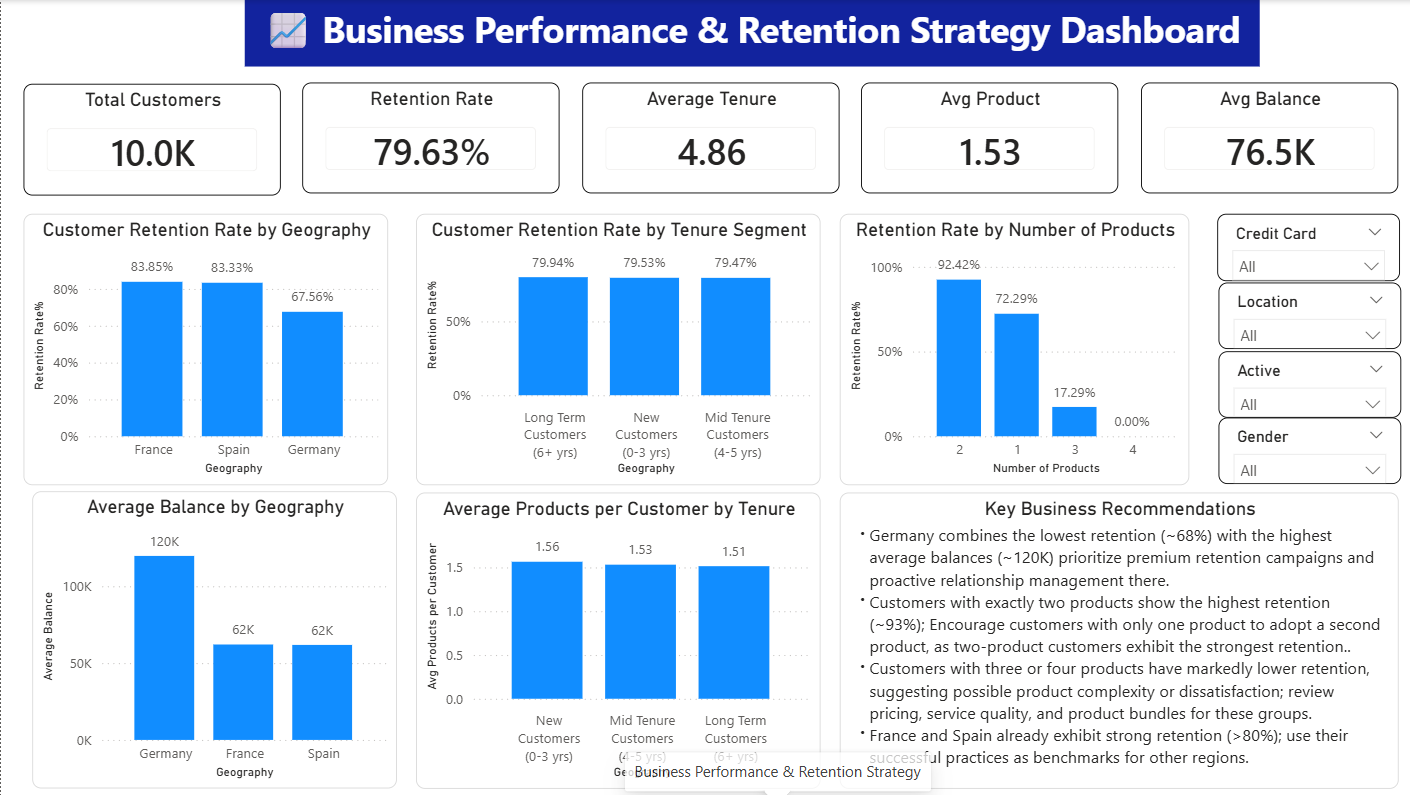

Layout of this report page (visuals, bound fields, positions):
{"tool":"powerbi","page":{"name":"Business Performance & Retention Strategy","canvas":[1280,720],"ordinal":3},"visuals":[{"type":"textbox","box":[219.8,0,915.2,59.6],"z":0},{"type":"cardVisual","title":"Total Customers","fields":{"Data":["CountNonNull(Bank_Churn.CustomerId)"]},"box":[20,75,232,100.6],"z":1000},{"type":"cardVisual","title":"Retention Rate","fields":{"Data":["Bank_Churn.Retenation Rate%"]},"box":[272,74.6,232,100.3],"z":2000},{"type":"cardVisual","title":"Average Tenure","fields":{"Data":["Avg(Bank_Churn.Tenure)"]},"box":[524,74.6,232,100.3],"z":3000},{"type":"cardVisual","title":"Avg Product","fields":{"Data":["Avg(Bank_Churn.NumOfProducts)"]},"box":[776,74.6,232,100.3],"z":4000},{"type":"cardVisual","title":"Avg Balance","fields":{"Data":["Bank_Churn.Average Bank Balance"]},"box":[1028,74.6,232,100.3],"z":5000},{"type":"clusteredColumnChart","title":"Customer Retention Rate by Geography","fields":{"Category":["Geography.GeographyLocation"],"Y":["Bank_Churn.Retenation Rate%"]},"box":[19.9,192.5,329.1,244.6],"z":6000},{"type":"clusteredColumnChart","title":"Customer Retention Rate by Tenure Segment","fields":{"Category":["Bank_Churn.Customer Tenure Segment"],"Y":["Bank_Churn.Retenation Rate%"]},"box":[373.8,192.5,365.1,244.6],"z":7000},{"type":"clusteredColumnChart","title":"Retention Rate by Number of Products","fields":{"Category":["Bank_Churn.NumOfProducts"],"Y":["Bank_Churn.Retenation Rate%"]},"box":[756.2,192.5,315.4,244.6],"z":8000},{"type":"clusteredColumnChart","title":"Average Balance by Geography","fields":{"Category":["Geography.GeographyLocation"],"Y":["Bank_Churn.Average Bank Balance"]},"box":[28.6,443.3,329.1,268.2],"z":9000},{"type":"clusteredColumnChart","title":"Average Products per Customer by Tenure","fields":{"Category":["Bank_Churn.Customer Tenure Segment"],"Y":["Avg(Bank_Churn.NumOfProducts)"]},"box":[373.8,444.5,365.1,267],"z":10000},{"type":"slicer","fields":{"Values":["Geography.GeographyLocation"]},"box":[1097.7,255,165.2,59.6],"z":11000},{"type":"slicer","fields":{"Values":["Gender.GenderCategory"]},"box":[1097.7,377,165.2,59.6],"z":12000},{"type":"slicer","fields":{"Values":["ActiveCustomer.ActiveCategory"]},"box":[1097.7,317,165.2,59.6],"z":13000},{"type":"slicer","fields":{"Values":["CreditCard.Category"]},"box":[1096.5,192.5,165.2,60.8],"z":14000},{"type":"textbox","title":"Key Business Recommendations","box":[756.2,444.5,504.2,267],"z":15000}]}

Visuals, with their boxes in screenshot pixels (x1, y1, x2, y2), scaled from the page's 1280x720 canvas onto the 1410x795 screenshot:
textbox: (left=242, top=0, right=1250, bottom=66)
"Total Customers" cardVisual: (left=22, top=83, right=278, bottom=194)
"Retention Rate" cardVisual: (left=300, top=82, right=555, bottom=193)
"Average Tenure" cardVisual: (left=577, top=82, right=833, bottom=193)
"Avg Product" cardVisual: (left=855, top=82, right=1110, bottom=193)
"Avg Balance" cardVisual: (left=1132, top=82, right=1388, bottom=193)
"Customer Retention Rate by Geography" clusteredColumnChart: (left=22, top=213, right=384, bottom=483)
"Customer Retention Rate by Tenure Segment" clusteredColumnChart: (left=412, top=213, right=814, bottom=483)
"Retention Rate by Number of Products" clusteredColumnChart: (left=833, top=213, right=1180, bottom=483)
"Average Balance by Geography" clusteredColumnChart: (left=32, top=489, right=394, bottom=786)
"Average Products per Customer by Tenure" clusteredColumnChart: (left=412, top=491, right=814, bottom=786)
slicer - Geography.GeographyLocation: (left=1209, top=282, right=1391, bottom=347)
slicer - Gender.GenderCategory: (left=1209, top=416, right=1391, bottom=482)
slicer - ActiveCustomer.ActiveCategory: (left=1209, top=350, right=1391, bottom=416)
slicer - CreditCard.Category: (left=1208, top=213, right=1390, bottom=280)
"Key Business Recommendations" textbox: (left=833, top=491, right=1388, bottom=786)
